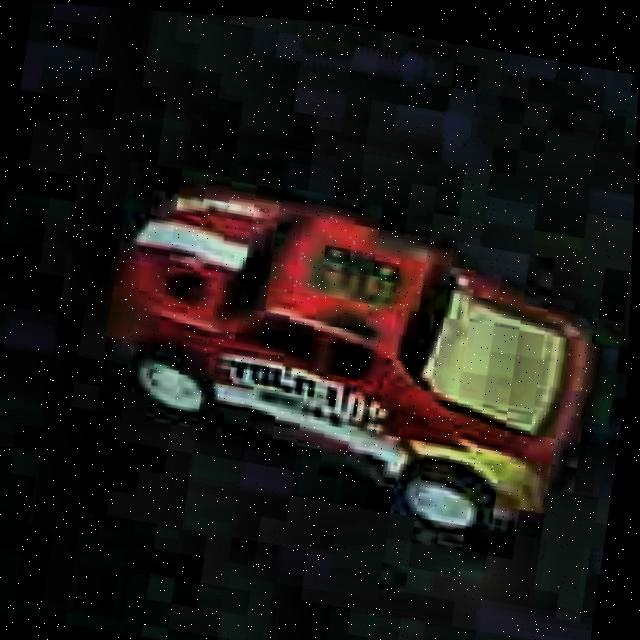car: (77, 158, 611, 566)
